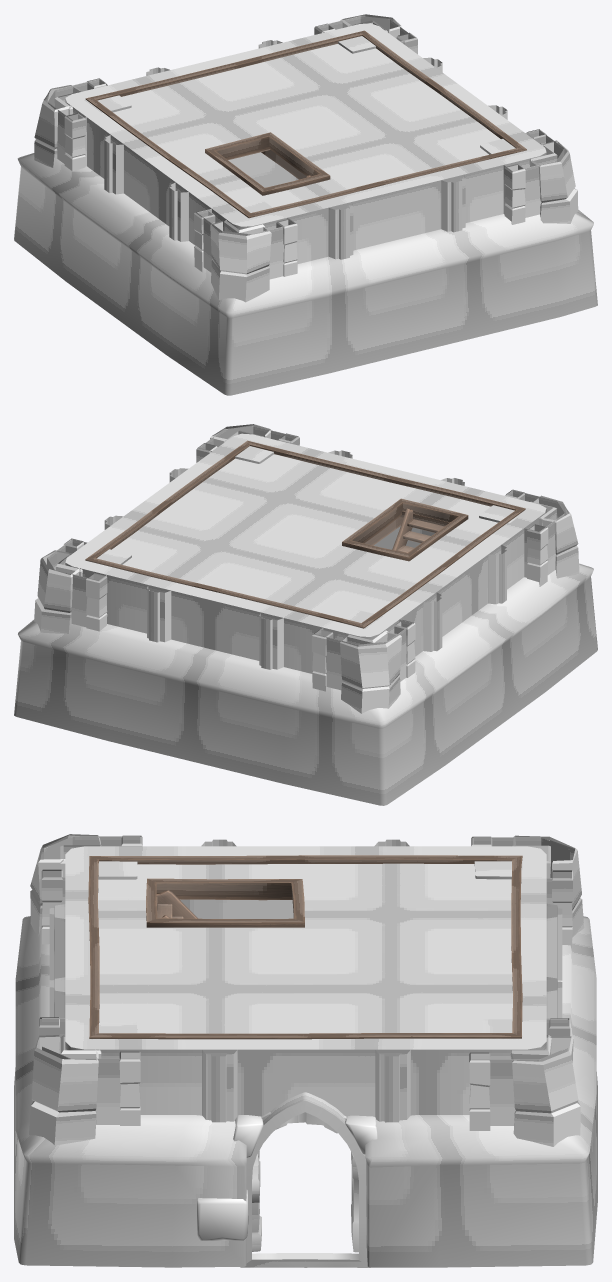
Rendered from SM_TowerF_Bottom.fbx.
3 views of the same model, one above another, from view 1: azimuth 30°, elevation 25°; view 2: azimuth 150°, elevation 25°; view 3: azimuth 270°, elevation 25° (orthographic). The views are drawn at different scales.
Parts seen in each view (by area): view 1: SM_TowerF_Bottom_LOD0; view 2: SM_TowerF_Bottom_LOD0; view 3: SM_TowerF_Bottom_LOD0.
Boxes of the visible parts, box(x1,y1,x2,y2) form: SM_TowerF_Bottom_LOD0: box(14, 14, 597, 395); SM_TowerF_Bottom_LOD0: box(14, 424, 597, 805); SM_TowerF_Bottom_LOD0: box(14, 834, 597, 1267).
Size of the model in its own units: 1216 by 1214 by 509.
